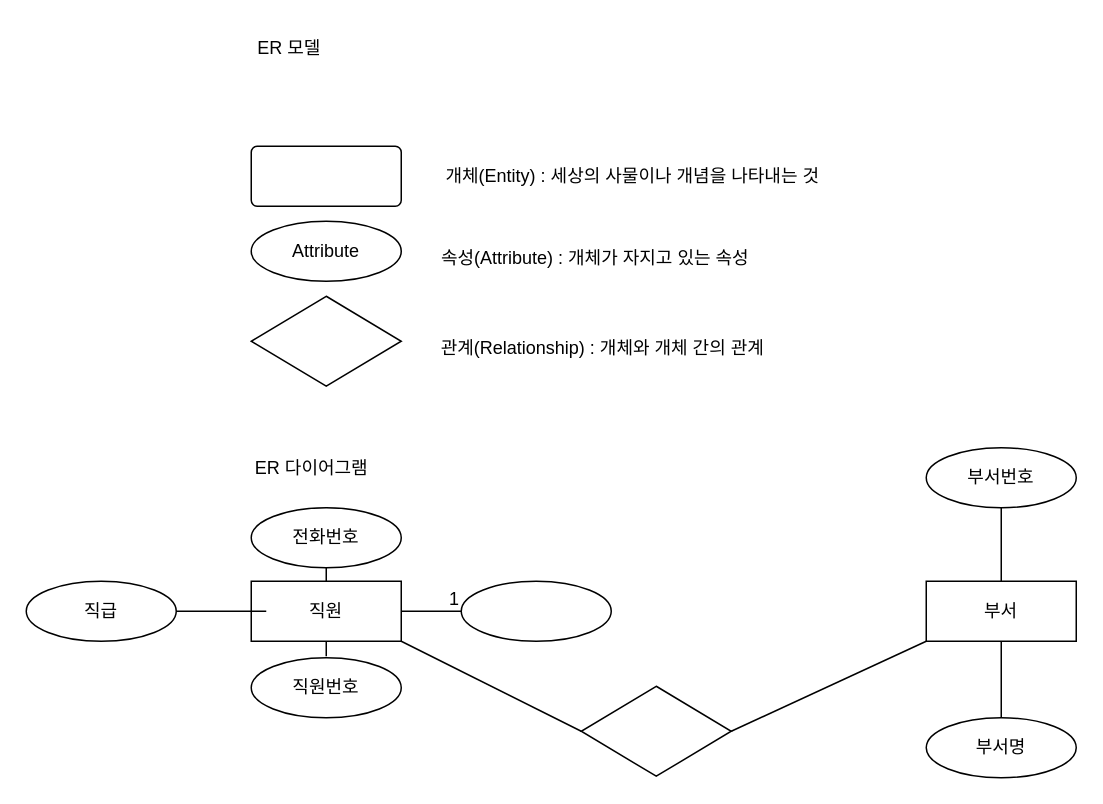
Image size: 1103x804. Some labels were removed from this diagram. Each missing label, with the box of its shape:
Entity: (250, 145, 401, 206)
Relationship: (250, 295, 401, 386)
소속: (580, 685, 731, 776)
이름: (460, 580, 611, 641)
